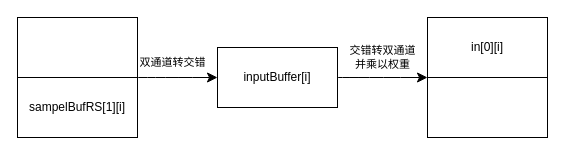
Some shapes in this 565 by 155 pixel diagram are drawn without their labels. The shapes that lost their labels are listed below. From the top down, each one's centre as x and y in pixels, then its label:
At point 77,47: "sampelBufRS[0][i]".
At point 487,107: "in[1][i]".
